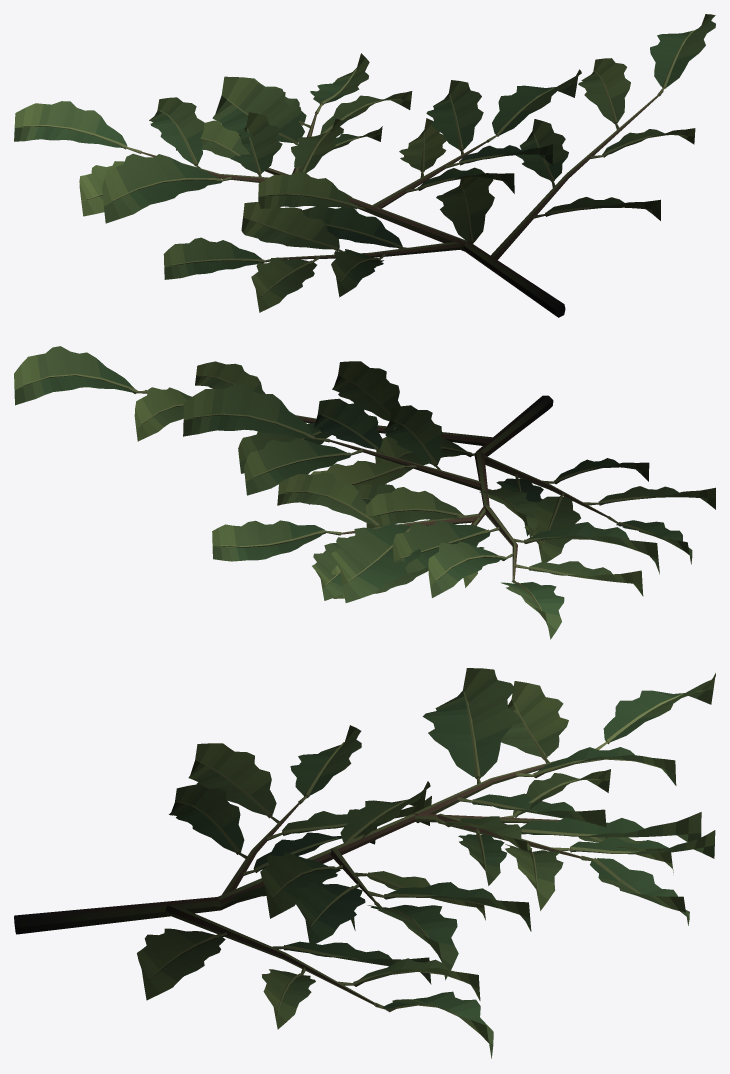
Rendered from Oak_Spray_Fork.fbx.
The picture shows the model from 3 angles, top to bottom: view 1: azimuth 30°, elevation 25°; view 2: azimuth 150°, elevation 25°; view 3: azimuth 270°, elevation 25°; orthographic projection. The views are drawn at different scales.
Parts seen in each view (by area): view 1: Oak_Spray_Fork; view 2: Oak_Spray_Fork; view 3: Oak_Spray_Fork.
Part boxes in pixels (bbox=[...]): Oak_Spray_Fork: bbox=[14, 14, 715, 317]; Oak_Spray_Fork: bbox=[14, 346, 715, 639]; Oak_Spray_Fork: bbox=[14, 668, 715, 1058].
Size of the model in its own units: 1.07 by 0.1664 by 0.8276.
